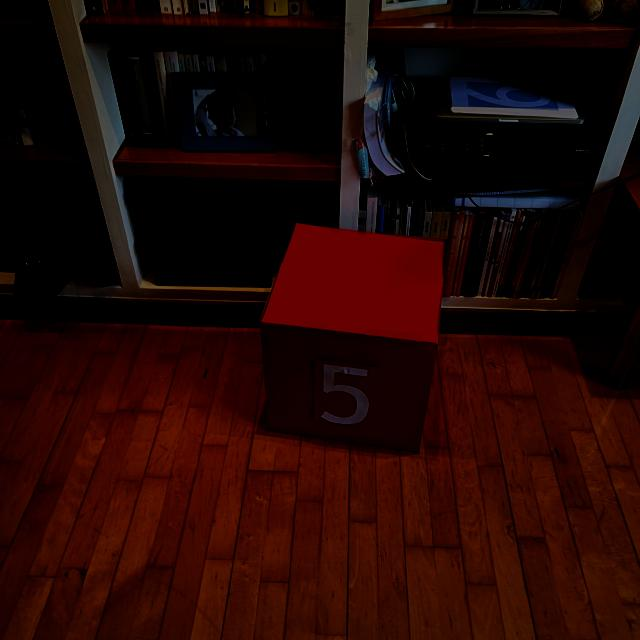box: (256, 219, 449, 455)
